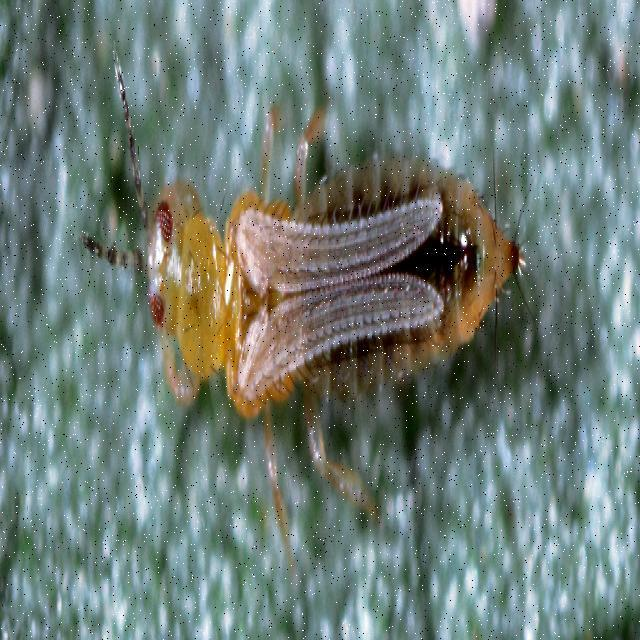Thrips: (72, 38, 564, 463)
